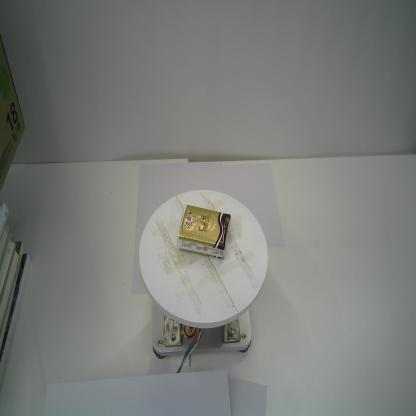Tissue: (176, 203, 231, 260)
